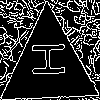H: (23, 40, 66, 79)
